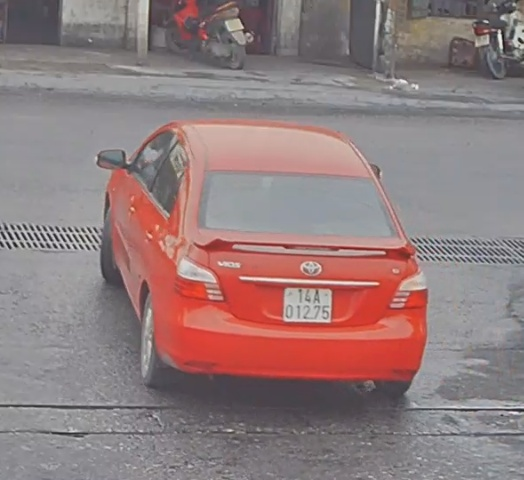vehicle plate: (280, 281, 338, 323)
